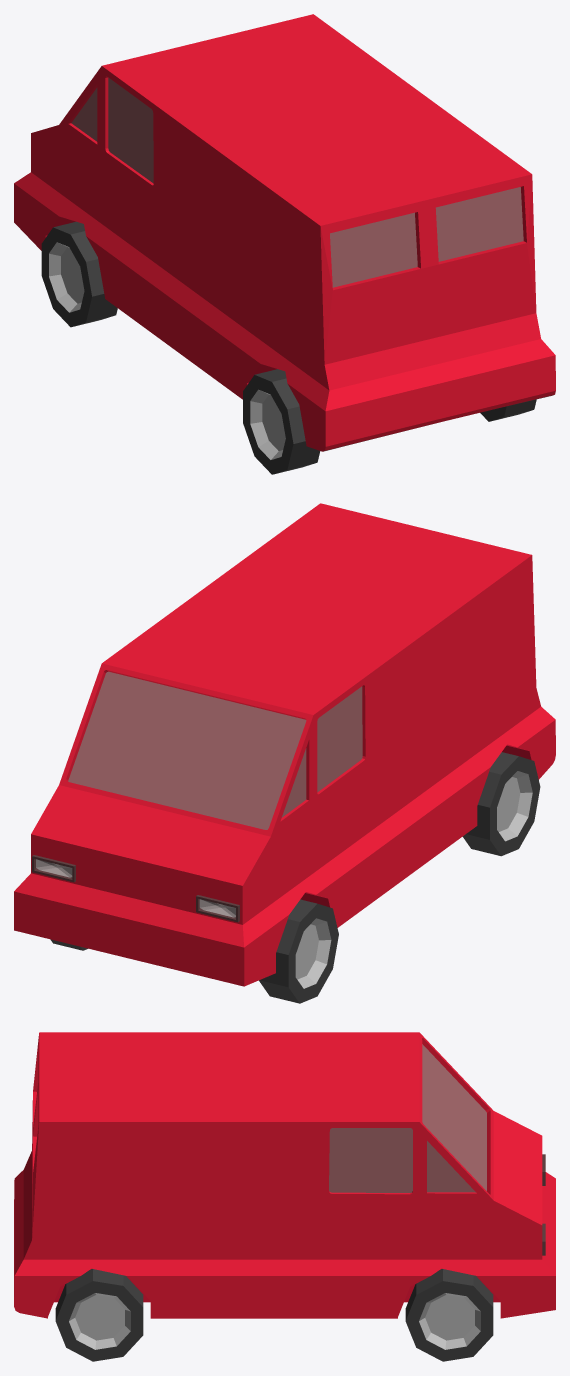
The model's file is dpd-van-red.glb.
3 renders of one model, top to bottom at view 1: azimuth 30°, elevation 25°; view 2: azimuth 150°, elevation 25°; view 3: azimuth 270°, elevation 25°, orthographic. The views are drawn at different scales.
Parts seen in each view (by area): view 1: Cube_body_0, object 2; view 2: Cube_body_0, object 2; view 3: Cube_body_0, object 2.
Part boxes in pixels (left/top/right/bottom): Cube_body_0: left=14, top=14, right=555, bottom=451; object 2: left=41, top=221, right=536, bottom=474; Cube_body_0: left=14, top=503, right=555, bottom=986; object 2: left=50, top=752, right=540, bottom=1003; Cube_body_0: left=14, top=1032, right=555, bottom=1318; object 2: left=55, top=1269, right=493, bottom=1361.
Size of the model in its own units: 2.33 by 2.41 by 5.1.
1 material, 1 textured.
